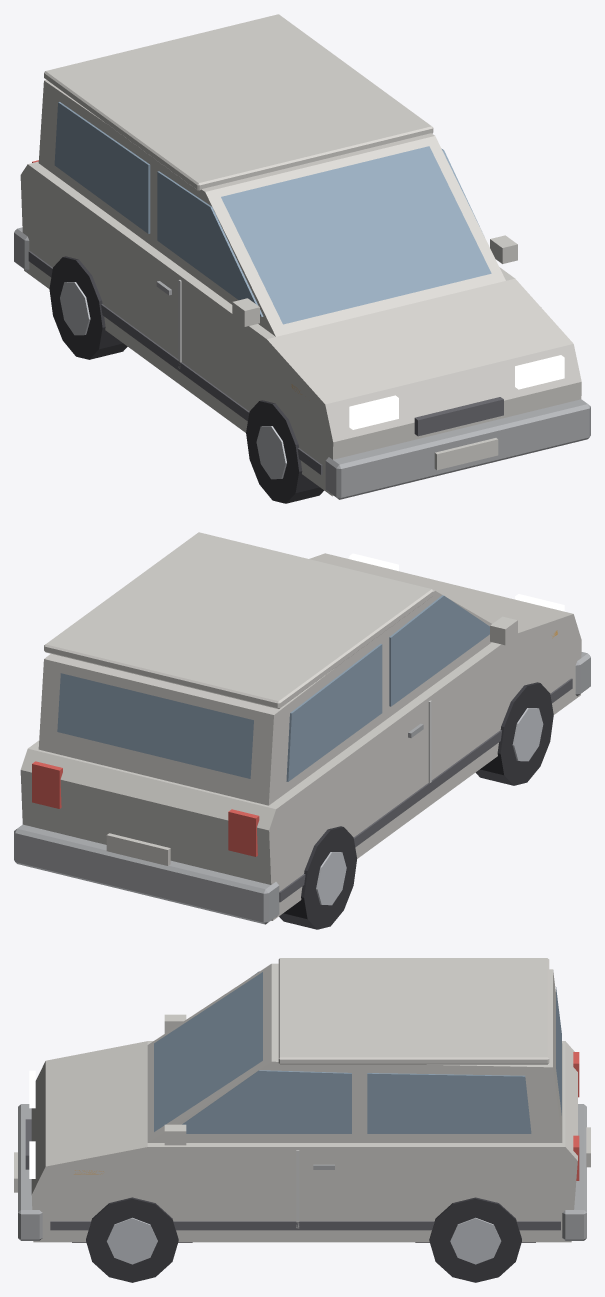
Rendered from prop_car_01.glb.
The picture shows the model from 3 angles, top to bottom: view 1: azimuth 30°, elevation 25°; view 2: azimuth 150°, elevation 25°; view 3: azimuth 270°, elevation 25°; orthographic projection. The views are drawn at different scales.
Parts seen in each view (by area): view 1: prop_car_01_body; view 2: prop_car_01_body; view 3: prop_car_01_body.
Part boxes in pixels (x1,y1,x2,y2): prop_car_01_body: (14, 14, 590, 503); prop_car_01_body: (14, 532, 590, 929); prop_car_01_body: (14, 958, 590, 1282).
Size of the model in its own units: 1.78 by 1.57 by 3.73.
